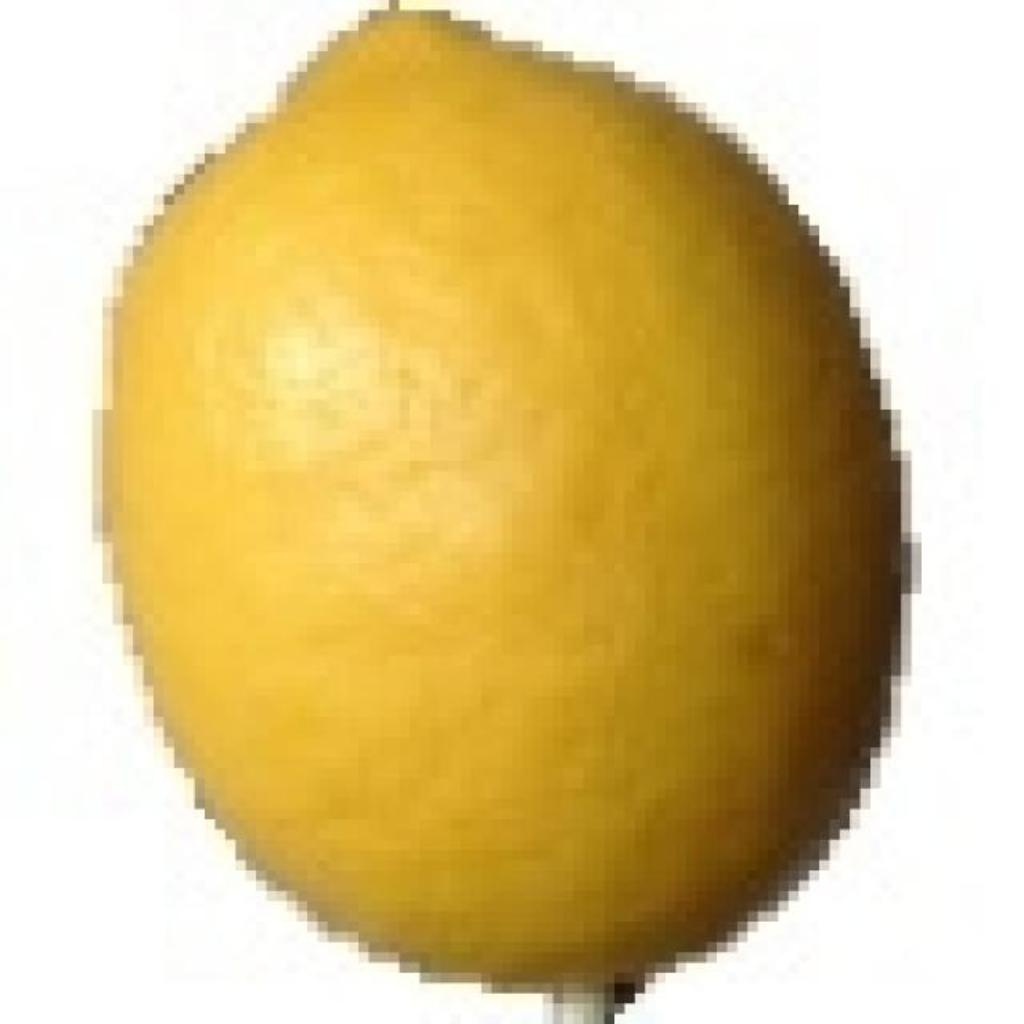lemon: (104, 6, 900, 1017)
